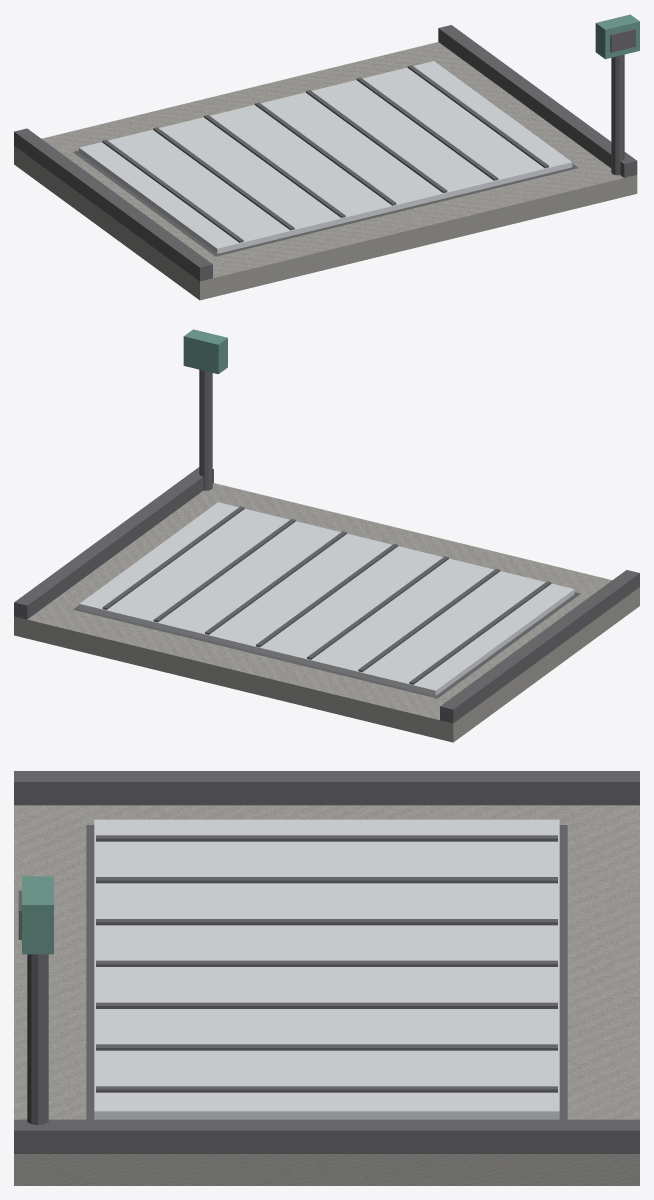
File: distillery-and-bonded-warehouse-weighbridge-plate-bab2ca74__38687.glb
3 renders of one model, top to bottom at view 1: azimuth 30°, elevation 25°; view 2: azimuth 150°, elevation 25°; view 3: azimuth 270°, elevation 25°, orthographic. The views are drawn at different scales.
Parts seen in each view (by area): view 1: weighbridge-plate-steel, weighbridge-plate-concrete, weighbridge-plate-iron, weighbridge-plate-paint; view 2: weighbridge-plate-steel, weighbridge-plate-concrete, weighbridge-plate-iron, weighbridge-plate-paint; view 3: weighbridge-plate-steel, weighbridge-plate-iron, weighbridge-plate-concrete, weighbridge-plate-paint.
Boxes of the visible parts, x1,y1,x2,y2 form: weighbridge-plate-steel: (79, 61, 572, 253); weighbridge-plate-concrete: (14, 42, 637, 300); weighbridge-plate-iron: (14, 25, 637, 281); weighbridge-plate-paint: (595, 14, 639, 59); weighbridge-plate-steel: (79, 502, 574, 695); weighbridge-plate-concrete: (14, 483, 639, 742); weighbridge-plate-iron: (14, 369, 639, 723); weighbridge-plate-paint: (183, 329, 227, 374); weighbridge-plate-steel: (94, 819, 559, 1119); weighbridge-plate-iron: (14, 771, 639, 1153); weighbridge-plate-concrete: (14, 805, 639, 1185); weighbridge-plate-paint: (22, 876, 53, 954).
Size of the model in its own units: 5.36 by 1.96 by 3.9.
Materials: 4 (1 with a texture image).
